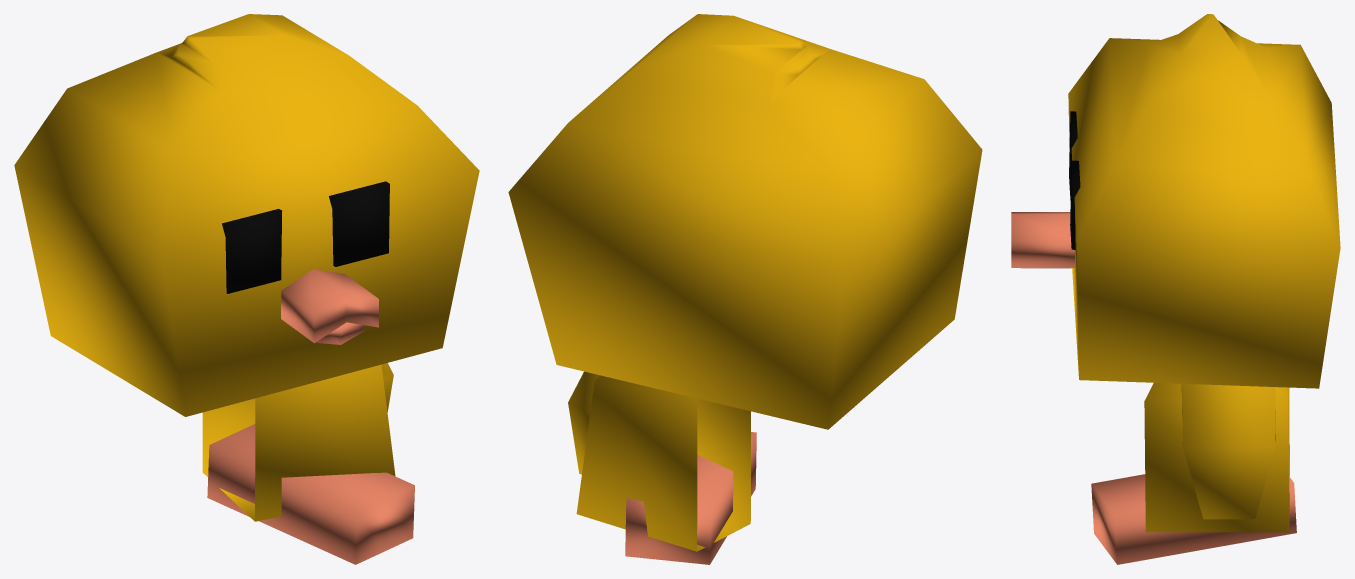
3 views of the same model, side by side, from view 1: azimuth 30°, elevation 25°; view 2: azimuth 150°, elevation 25°; view 3: azimuth 270°, elevation 25° (orthographic). The views are drawn at different scales.
Visible parts, largest first — view 1: Cube.005, Cube, Cube.001, Cube.004, Cube.002, Cube.003, Cube.006; view 2: Cube.005, Cube, Cube.001, Cube.009; view 3: Cube.005, Cube.009, Cube, Cube.001, Cube.004, Cube.002.
Part boxes in pixels (box(x1,y1,x2,y2)): Cube.005: box(14, 14, 479, 416); Cube: box(202, 364, 395, 521); Cube.001: box(207, 424, 414, 564); Cube.004: box(281, 269, 378, 343); Cube.002: box(329, 181, 389, 266); Cube.003: box(222, 209, 282, 293); Cube.006: box(316, 322, 364, 344); Cube.005: box(508, 14, 982, 429); Cube: box(576, 375, 750, 551); Cube.001: box(625, 432, 756, 564); Cube.009: box(568, 371, 599, 474); Cube.005: box(1068, 14, 1340, 388); Cube.009: box(1181, 383, 1275, 519); Cube: box(1144, 382, 1289, 532); Cube.001: box(1091, 474, 1296, 564); Cube.004: box(1011, 212, 1074, 267); Cube.002: box(1070, 160, 1080, 249).
Size of the model in its own units: 3.64 by 5.37 by 3.39.
